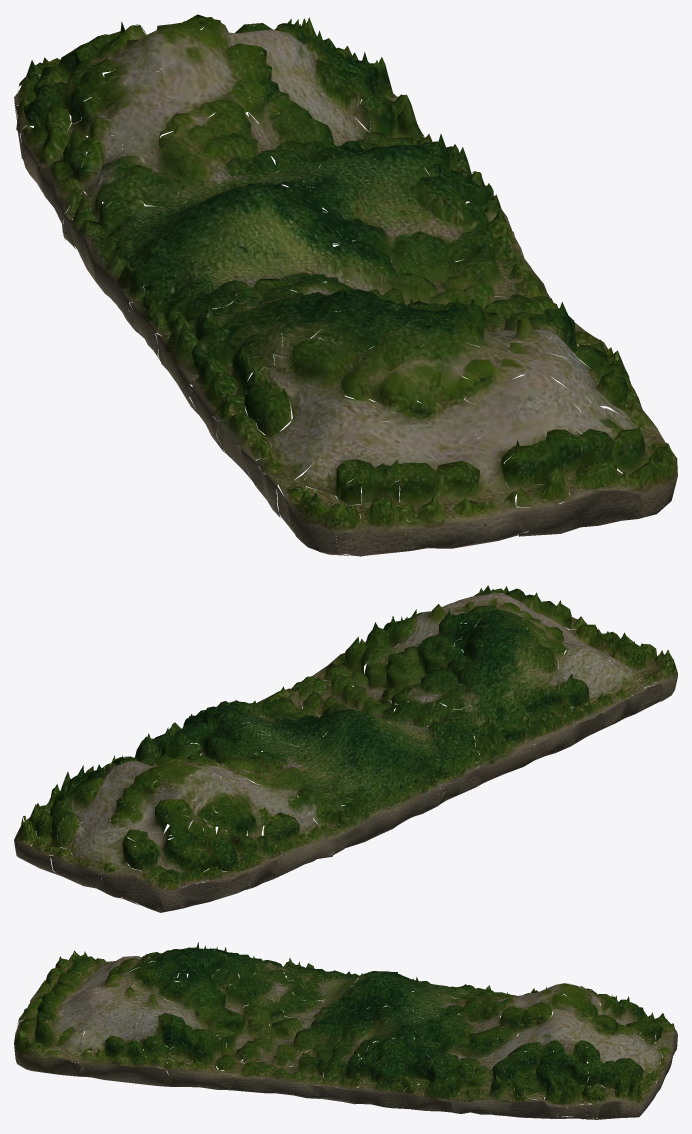
File: ridge.glb
3 renders of one model, top to bottom at view 1: azimuth 30°, elevation 25°; view 2: azimuth 150°, elevation 25°; view 3: azimuth 270°, elevation 25°, orthographic. The views are drawn at different scales.
Parts seen in each view (by area): view 1: tripo_node_1330f282-3d7d-4ea9-8058-2fa8e299f35e; view 2: tripo_node_1330f282-3d7d-4ea9-8058-2fa8e299f35e; view 3: tripo_node_1330f282-3d7d-4ea9-8058-2fa8e299f35e.
Boxes of the visible parts, x1,y1,x2,y2 form: tripo_node_1330f282-3d7d-4ea9-8058-2fa8e299f35e: [14, 14, 677, 556]; tripo_node_1330f282-3d7d-4ea9-8058-2fa8e299f35e: [14, 585, 677, 912]; tripo_node_1330f282-3d7d-4ea9-8058-2fa8e299f35e: [14, 942, 677, 1119].
Size of the model in its own units: 203 by 53.45 by 400.
Materials: 1 (1 with a texture image).
